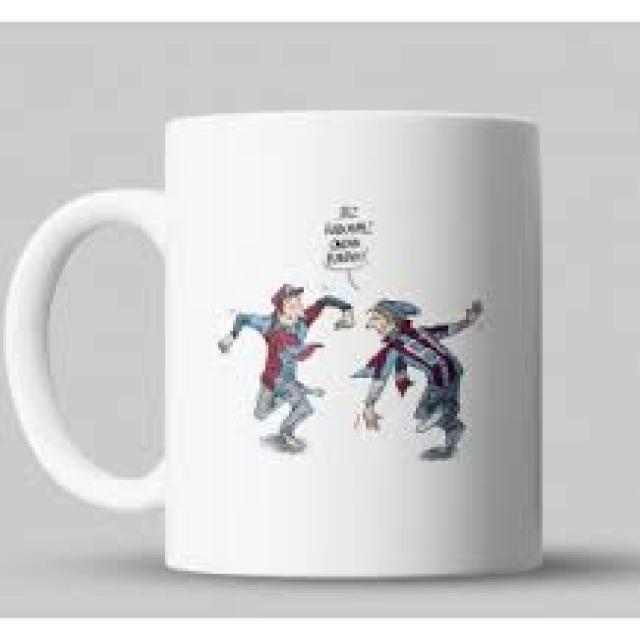taza: (1, 110, 542, 580)
